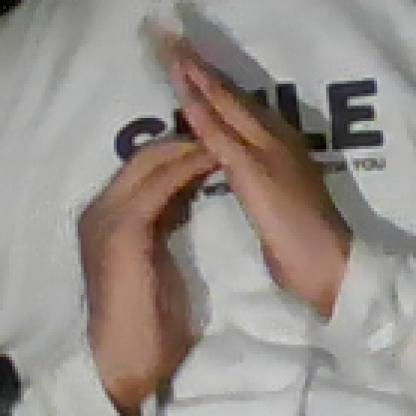Z: (73, 23, 331, 370)
